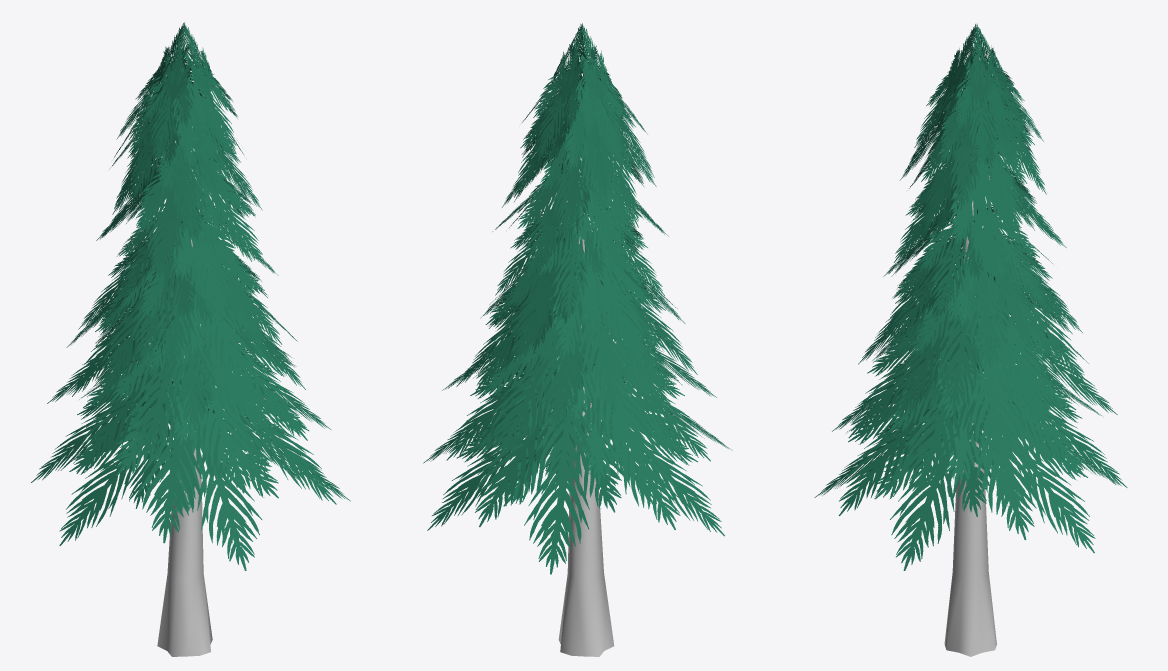
Rendered from pine_tree_LOD0.fbx.
3 views of the same model, side by side, from view 1: azimuth 30°, elevation 25°; view 2: azimuth 150°, elevation 25°; view 3: azimuth 270°, elevation 25° (orthographic).
Parts seen in each view (by area): view 1: polySurface185; view 2: polySurface185; view 3: polySurface185.
Boxes of the visible parts, <box> form: polySurface185: <box>31,22,350,656</box>; polySurface185: <box>423,23,732,656</box>; polySurface185: <box>814,23,1127,656</box>.
Size of the model in its own units: 2.3 by 4.4 by 2.31.
